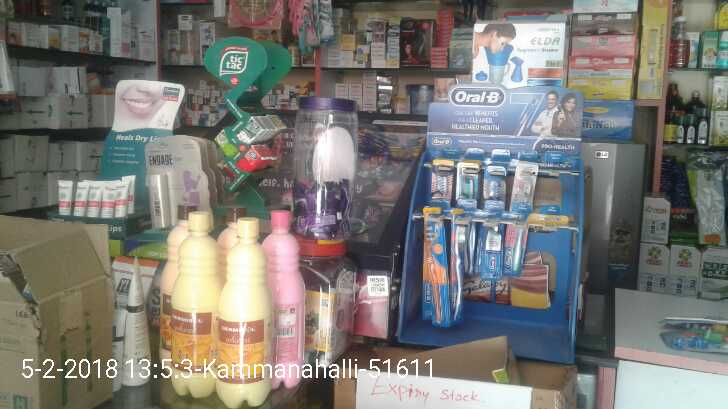oralb: (422, 205, 449, 330), (448, 212, 471, 326), (482, 170, 503, 280), (512, 162, 530, 276)
